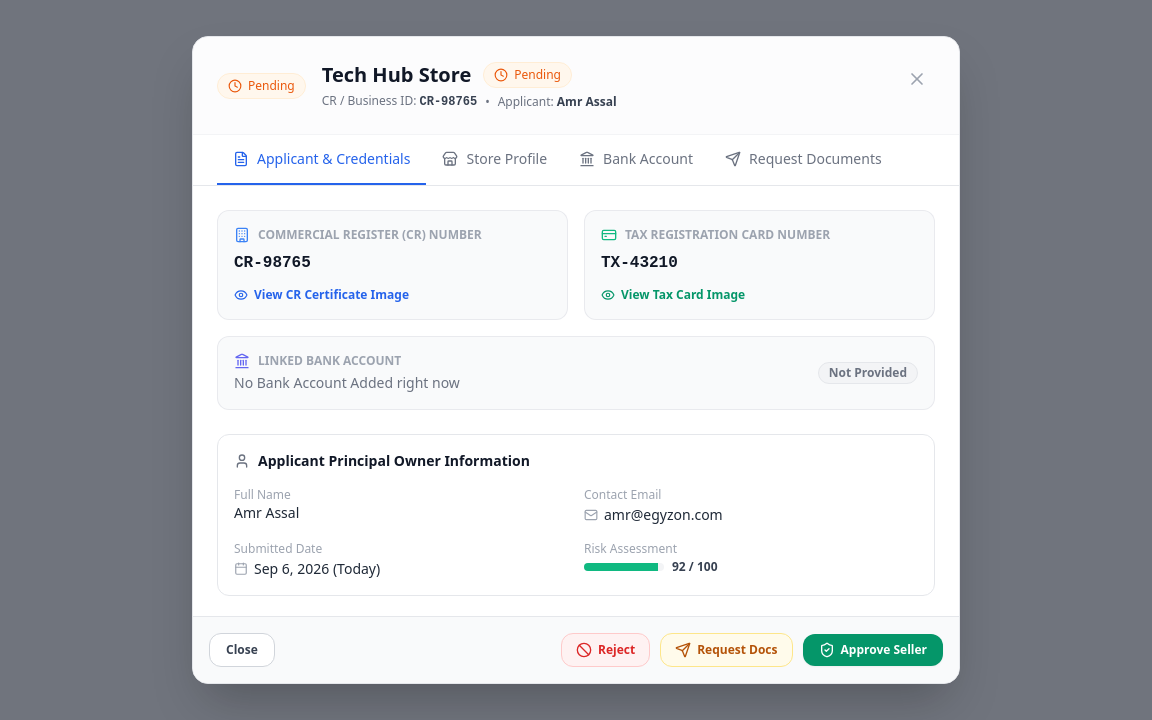
it: SellerViewModel Component - Bank Account Integration › does not show dummy data when seller has no bank account
The width and height of the screenshot is (1152, 720).
Check: the text "Linked Bank Account" is shown, box left=234, top=352, right=401, bottom=369
Check: the text "No Bank Account Added right now" is shown, box left=234, top=373, right=460, bottom=393
Note: Switch to Bank Account tab
Click the button "Bank Account" at {"x": 636, "y": 160}, box left=563, top=135, right=709, bottom=185
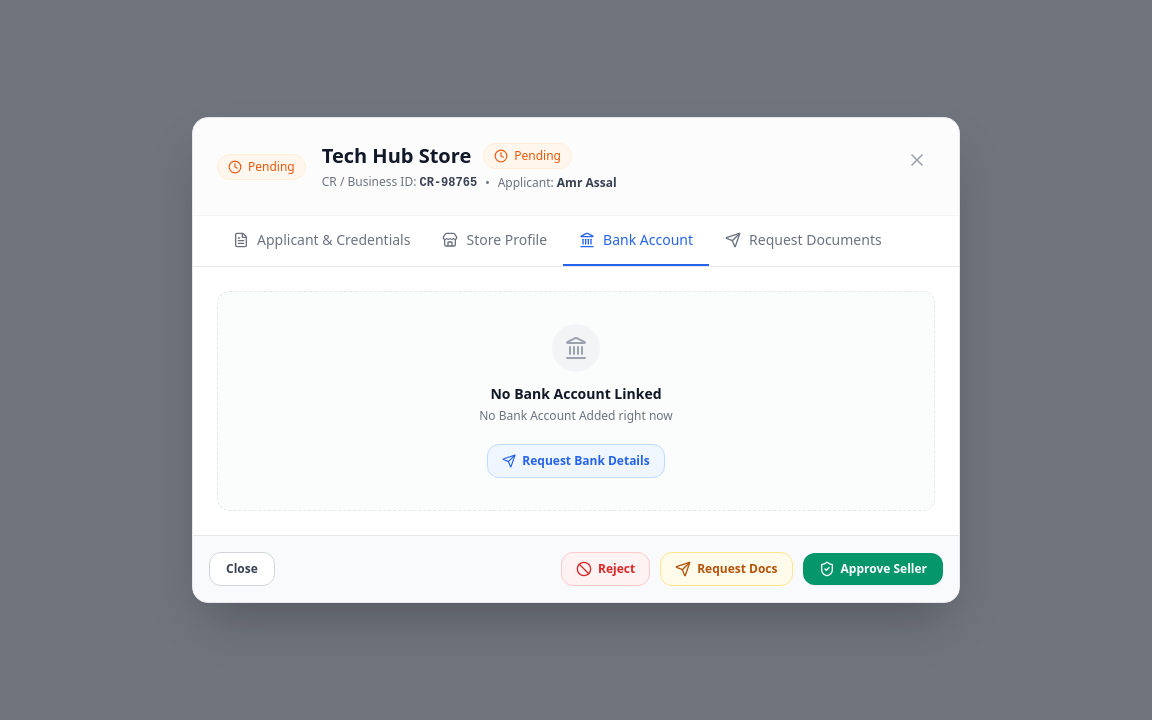
Check: the heading "No Bank Account Linked" is shown, box left=490, top=384, right=662, bottom=403
